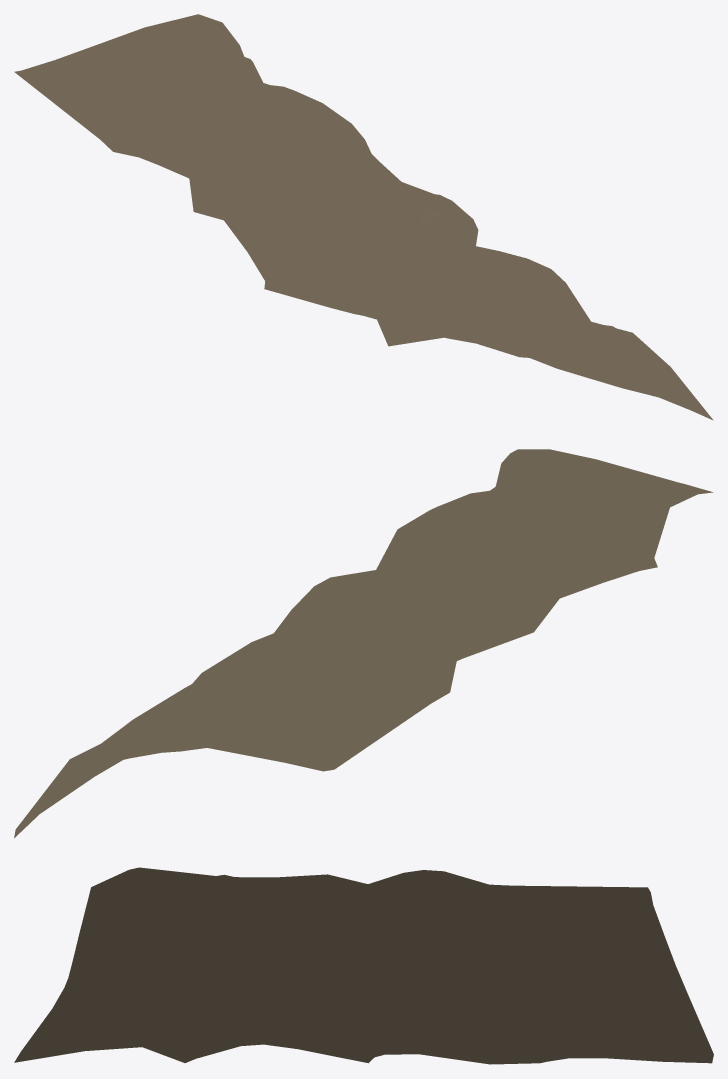
File: Net.fbx
The picture shows the model from 3 angles, top to bottom: view 1: azimuth 30°, elevation 25°; view 2: azimuth 150°, elevation 25°; view 3: azimuth 270°, elevation 25°; orthographic projection. The views are drawn at different scales.
Parts seen in each view (by area): view 1: mesh_1.1571; view 2: mesh_1.1571; view 3: mesh_1.1571.
Boxes of the visible parts, x1,y1,x2,y2 form: mesh_1.1571: (14,14,713,420); mesh_1.1571: (14,449,712,838); mesh_1.1571: (14,867,713,1064).
Bounding box in the file's own units: 2.59 × 1.02 × 6.55.
